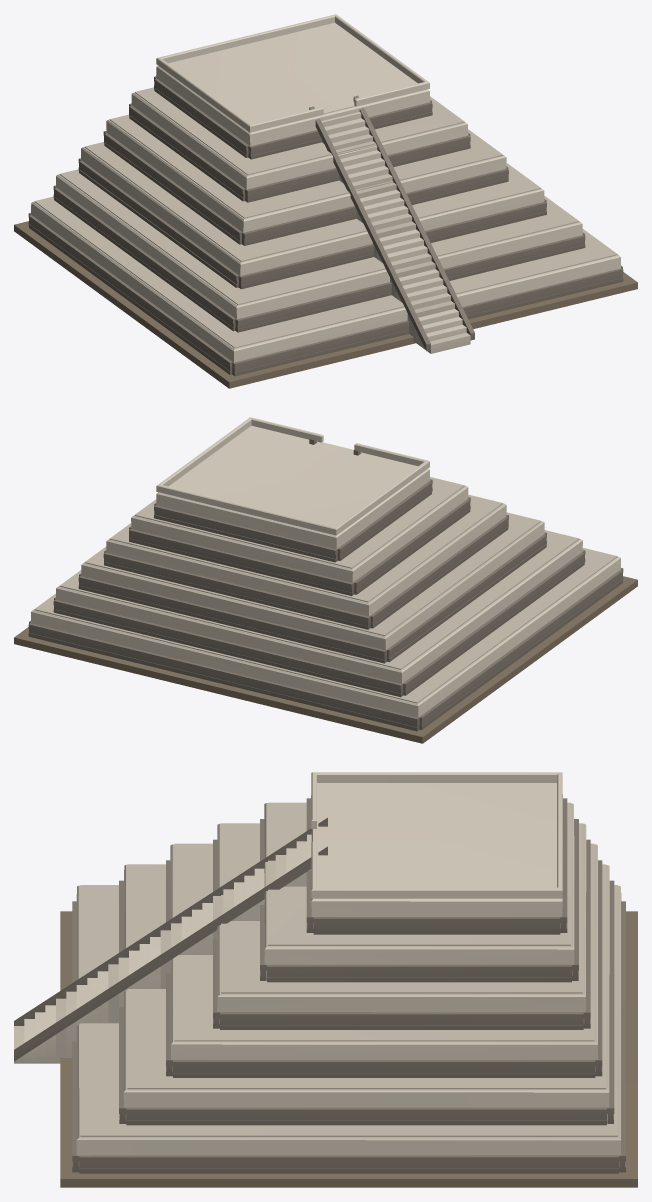
Rendered from caral_pyramid_mayor_phase3_lod0.glb.
3 renders of one model, top to bottom at view 1: azimuth 30°, elevation 25°; view 2: azimuth 150°, elevation 25°; view 3: azimuth 270°, elevation 25°, orthographic. The views are drawn at different scales.
Visible parts, largest first — view 1: GEO-Arch_pyramid_mayor_phase3_LOD0; view 2: GEO-Arch_pyramid_mayor_phase3_LOD0; view 3: GEO-Arch_pyramid_mayor_phase3_LOD0.
Part boxes in pixels (box(x1,y1,x2,y2)): GEO-Arch_pyramid_mayor_phase3_LOD0: box(14, 14, 637, 388); GEO-Arch_pyramid_mayor_phase3_LOD0: box(14, 417, 637, 743); GEO-Arch_pyramid_mayor_phase3_LOD0: box(14, 772, 637, 1187).
Size of the model in its own units: 45.4 by 17.65 by 44.71.
